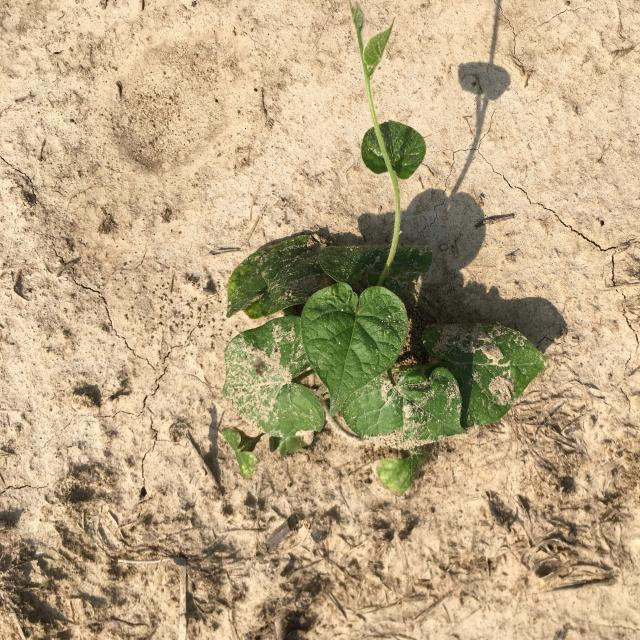MorningGlory: (218, 1, 548, 496)
